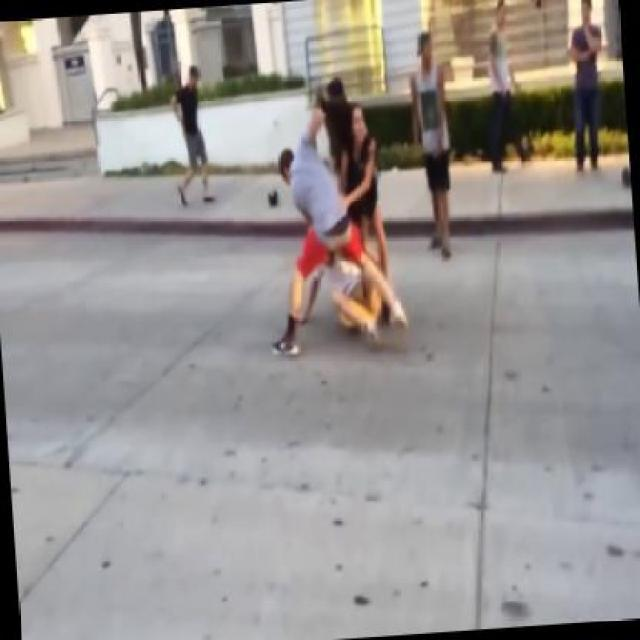fight: (270, 131, 376, 351)
non-fight: (396, 26, 466, 269), (474, 0, 537, 178), (563, 0, 614, 180), (167, 63, 218, 209)
